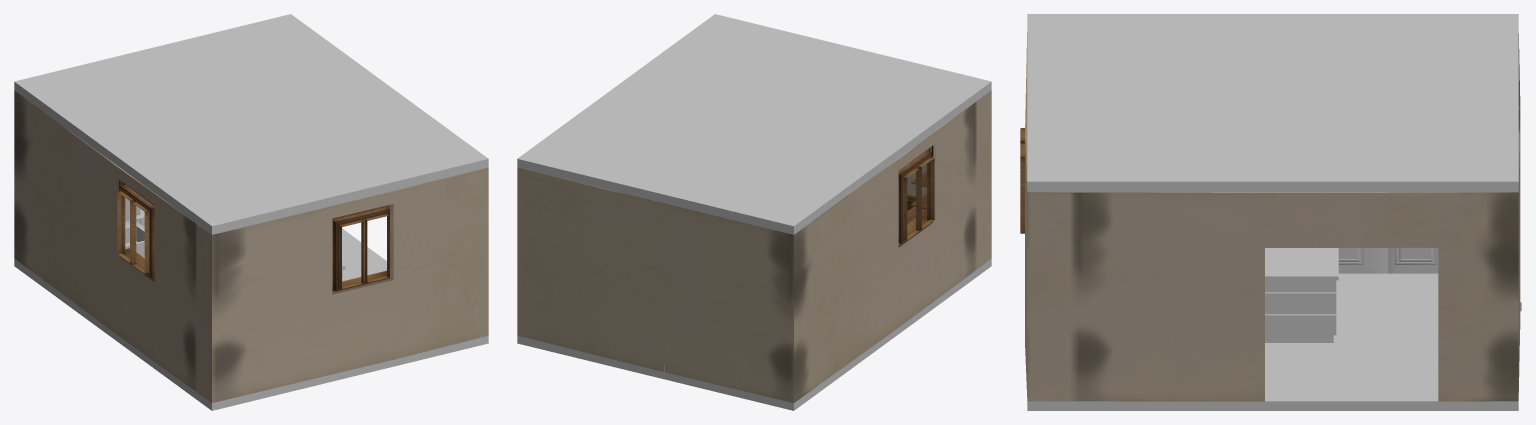
Rendered from ENV_Kitchen_01_copy.fbx.
3 renders of one model, left to right at view 1: azimuth 30°, elevation 25°; view 2: azimuth 150°, elevation 25°; view 3: azimuth 270°, elevation 25°, orthographic. The views are drawn at different scales.
Parts seen in each view (by area): view 1: ENV_Wall_01, ENV_Floor&Ceiling, ENV_Window_01, ENV_Window_02; view 2: ENV_Wall_01, ENV_Floor&Ceiling, ENV_Window_01; view 3: ENV_Floor&Ceiling, ENV_Wall_01, ENV_KitchenIsland_01, ENV_Countertop_01, ENV_Countertop_02, ENV_Window_02.
Part boxes in pixels (box(x1,y1,x2,y2)): ENV_Wall_01: box(14, 90, 488, 402); ENV_Floor&Ceiling: box(14, 14, 488, 410); ENV_Window_01: box(117, 179, 154, 281); ENV_Window_02: box(332, 205, 389, 291); ENV_Wall_01: box(517, 90, 991, 402); ENV_Floor&Ceiling: box(517, 14, 991, 410); ENV_Window_01: box(898, 145, 934, 247); ENV_Floor&Ceiling: box(1027, 14, 1518, 410); ENV_Wall_01: box(1025, 32, 1520, 401); ENV_KitchenIsland_01: box(1265, 248, 1338, 342); ENV_Countertop_01: box(1388, 248, 1521, 311); ENV_Countertop_02: box(1338, 248, 1388, 273); ENV_Window_02: box(1020, 128, 1024, 233).
Size of the model in its own units: 17059 by 10650 by 21087.
